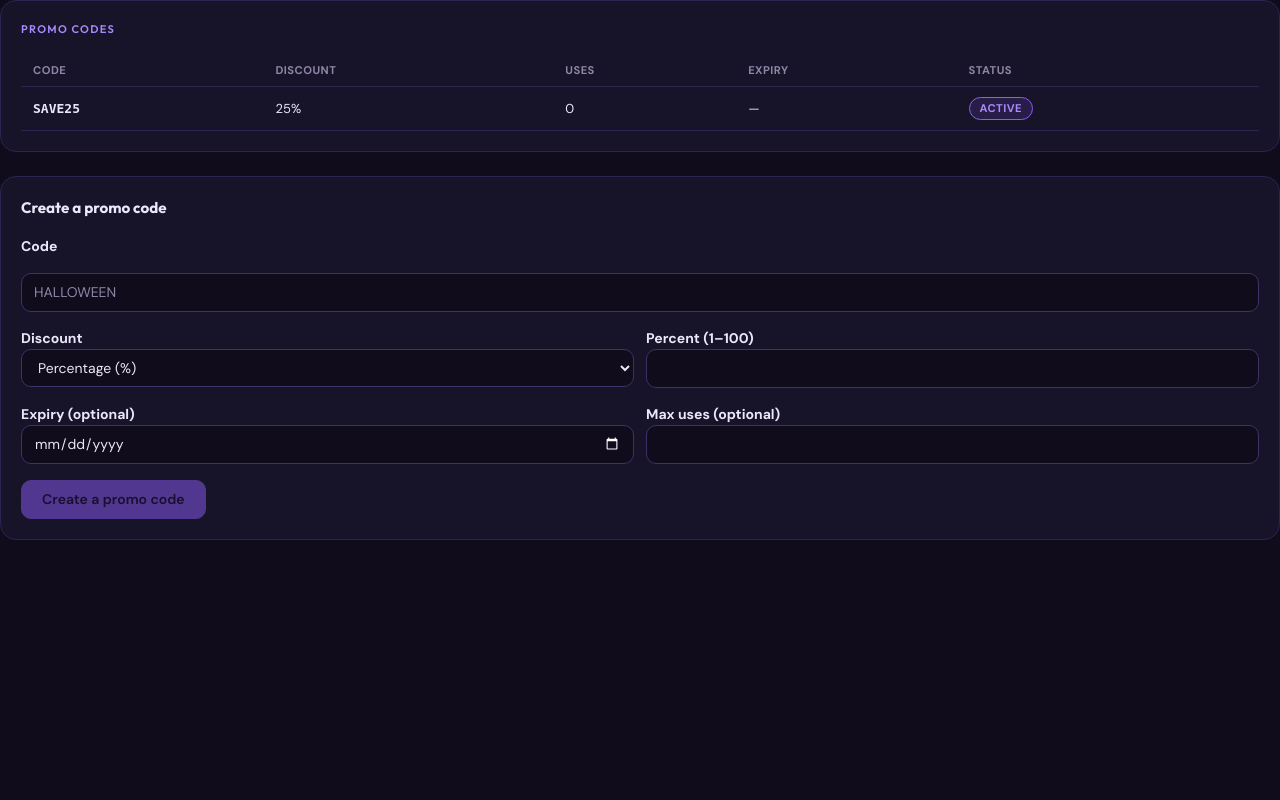
Scenario: AdminPromos › surfaces a toggle failure
Expected: the table is shown, [21,54,1259,131]
Click the button "Active" at (1001, 109), box [969,97,1033,120]
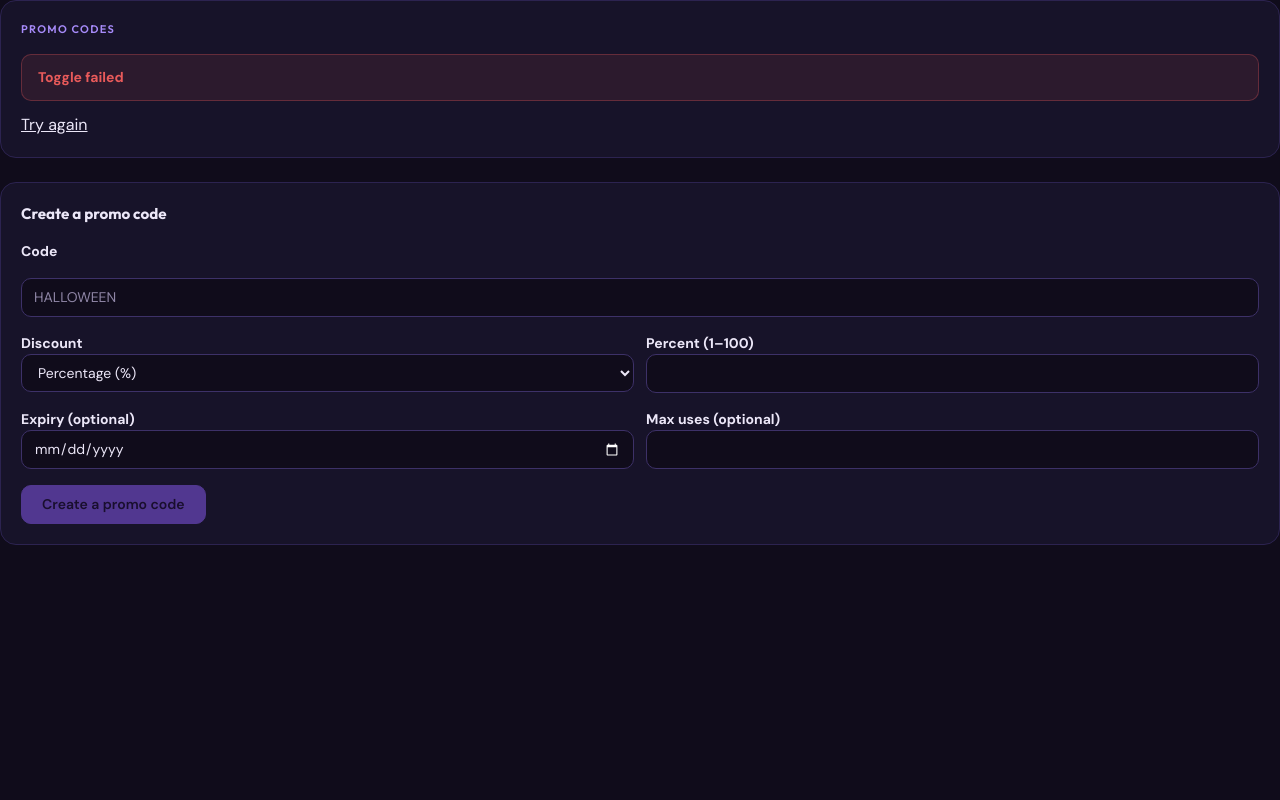
Expected: the text "Toggle failed" is shown, [21,54,1259,100]
